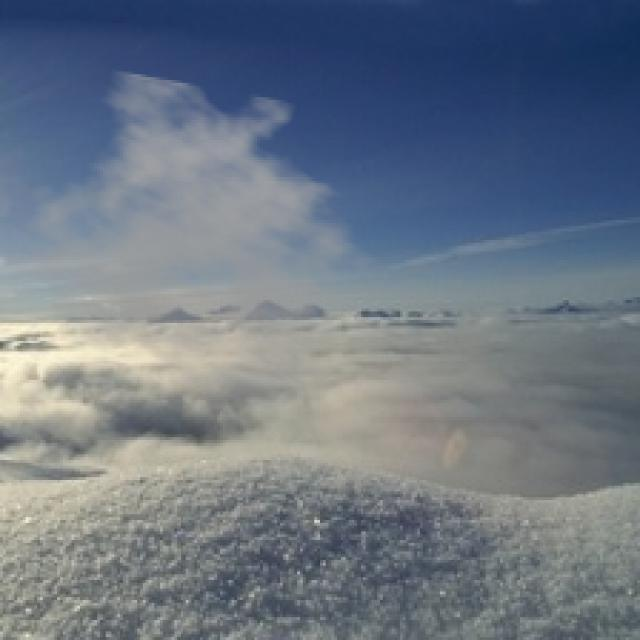Smoke: (9, 68, 398, 414)
